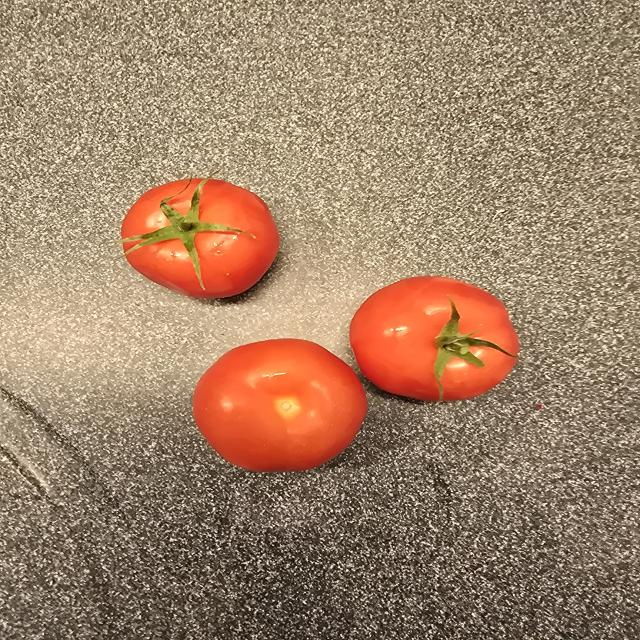Tomato: (193, 339, 367, 472), (350, 277, 519, 401), (121, 178, 280, 298)
